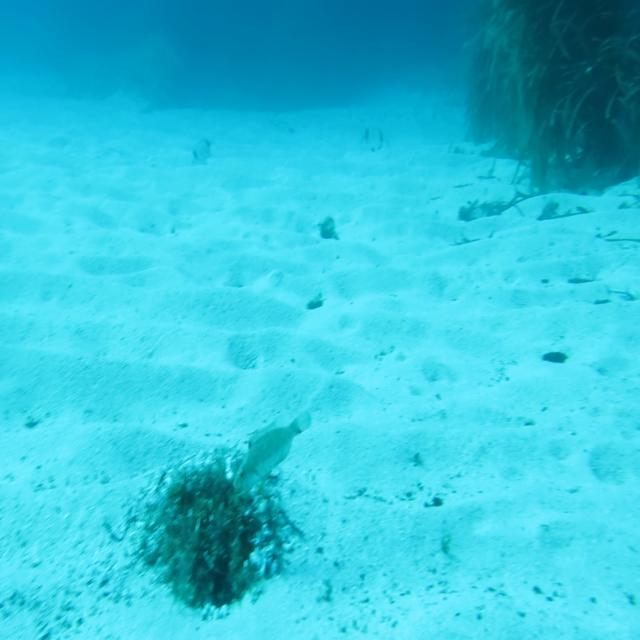BN: (232, 406, 312, 492)
core_nest: (188, 480, 244, 514)
nest: (128, 447, 300, 625)
other_fish: (359, 121, 390, 160), (189, 132, 215, 170)
vegetation: (460, 0, 640, 213), (542, 346, 572, 370), (320, 211, 340, 242)
